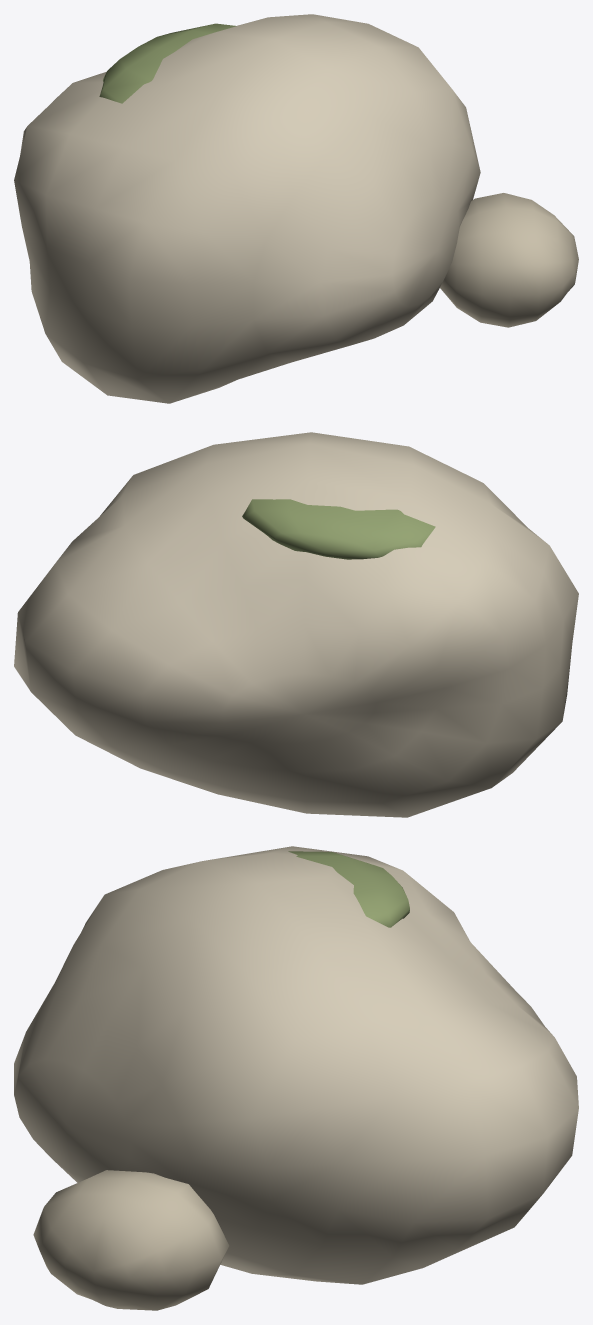
The model's file is rock.glb.
3 renders of one model, top to bottom at view 1: azimuth 30°, elevation 25°; view 2: azimuth 150°, elevation 25°; view 3: azimuth 270°, elevation 25°, orthographic. The views are drawn at different scales.
Parts seen in each view (by area): view 1: rock; view 2: rock; view 3: rock.
Part boxes in pixels (x1,y1,x2,y2): rock: (14, 14, 578, 403); rock: (14, 432, 578, 817); rock: (14, 846, 578, 1310).
Bounding box in the file's own units: 2.73 × 1.78 × 2.44.
